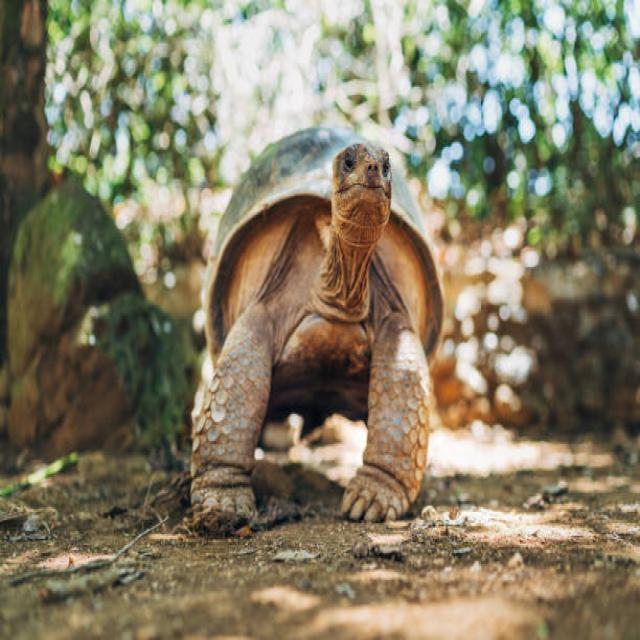tortoise: (196, 124, 482, 343), (332, 296, 448, 568), (184, 301, 284, 553), (326, 115, 405, 301)
